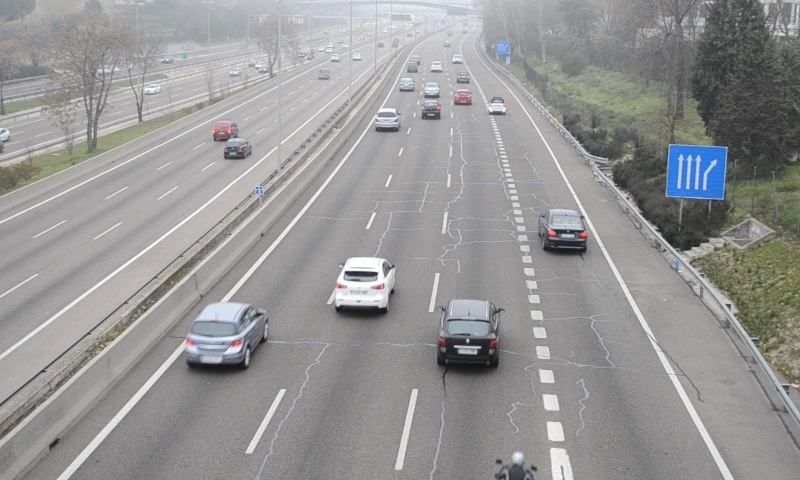car: (187, 302, 268, 372), (438, 298, 500, 369), (334, 256, 398, 309), (538, 208, 590, 254), (374, 108, 401, 132), (422, 99, 441, 120), (488, 95, 506, 116), (454, 89, 473, 106), (423, 82, 440, 99), (398, 77, 415, 93)
